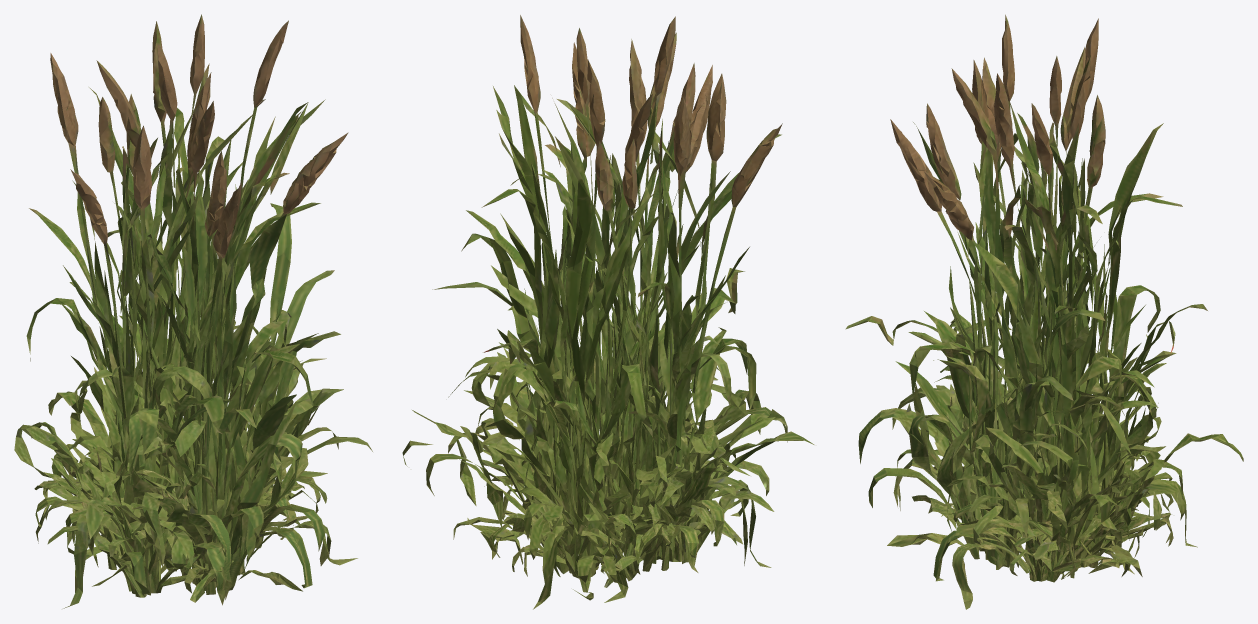
The model's file is miscanthus.glb.
The picture shows the model from 3 angles, left to right: view 1: azimuth 30°, elevation 25°; view 2: azimuth 150°, elevation 25°; view 3: azimuth 270°, elevation 25°; orthographic projection. The views are drawn at different scales.
Visible parts, largest first — view 1: mesh_node; view 2: mesh_node; view 3: mesh_node.
Boxes of the visible parts, bbox=[...] form: mesh_node: bbox=[14, 14, 372, 608]; mesh_node: bbox=[402, 15, 814, 609]; mesh_node: bbox=[845, 14, 1243, 609].
Size of the model in its own units: 1.16 by 1.91 by 1.33.
1 material, 1 textured.
